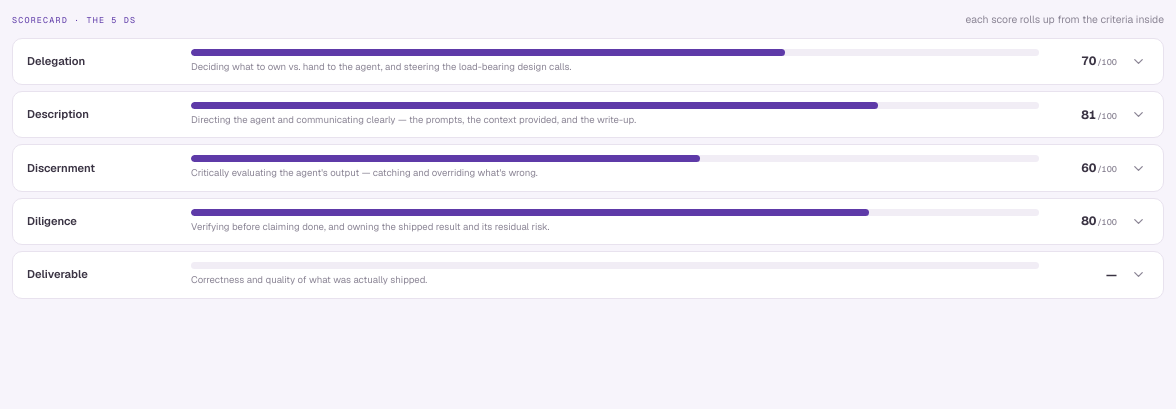
Scenario: AssessmentScorecard › renders the five axes and expands one into its graded criteria
Expected: the text "SCORECARD · THE 5 Ds" is shown, [12, 14, 136, 27]
Expected: the text "Delegation" is shown, [27, 54, 85, 68]
Click the button "Discernment". click: (61, 168)
box: [13, 145, 1163, 191]
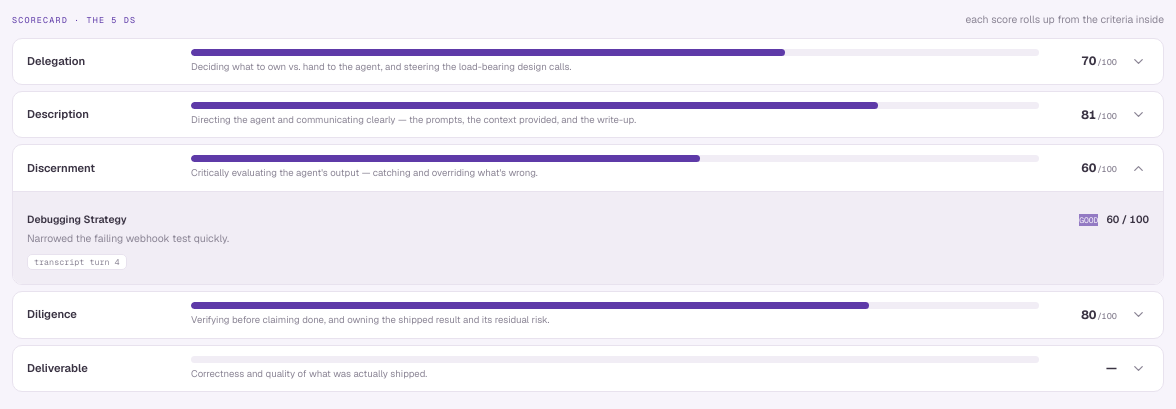
Expected: the text "Debugging Strategy" is shown, [27, 213, 127, 226]
Expected: the text "Narrowed the failing webhook test quickly." is shown, [27, 232, 229, 245]
Expected: the text "transcript turn 4" is shown, [27, 254, 127, 270]
